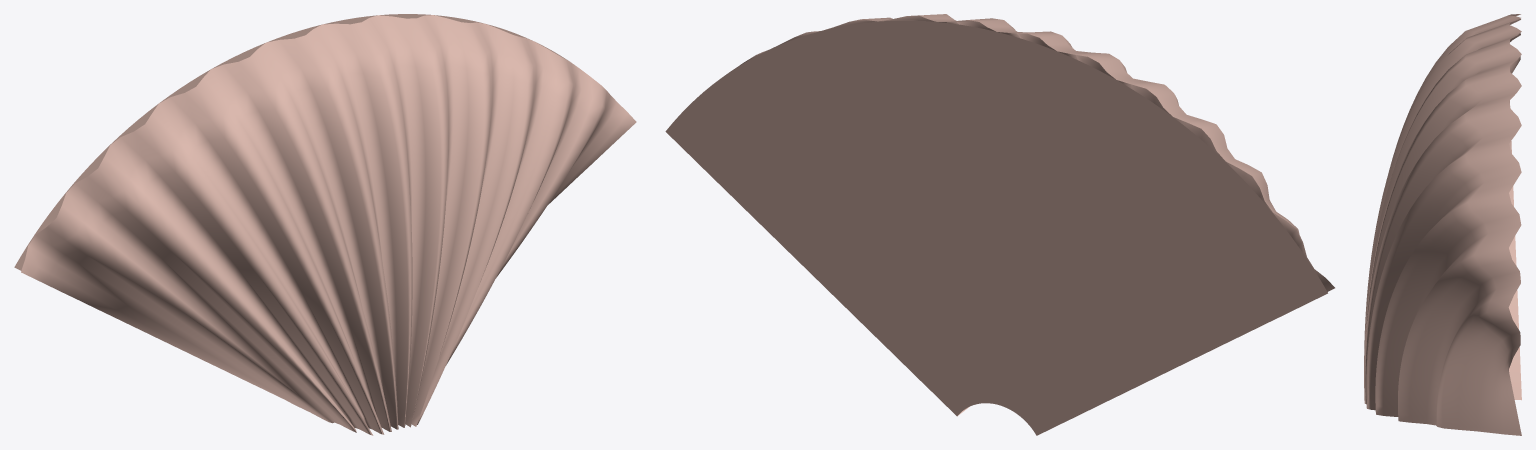
The model's file is shell.obj.
3 renders of one model, left to right at view 1: azimuth 30°, elevation 25°; view 2: azimuth 150°, elevation 25°; view 3: azimuth 270°, elevation 25°, orthographic. The views are drawn at different scales.
Bounding box in the file's own units: 0.1065 × 0.0605 × 0.0238.
